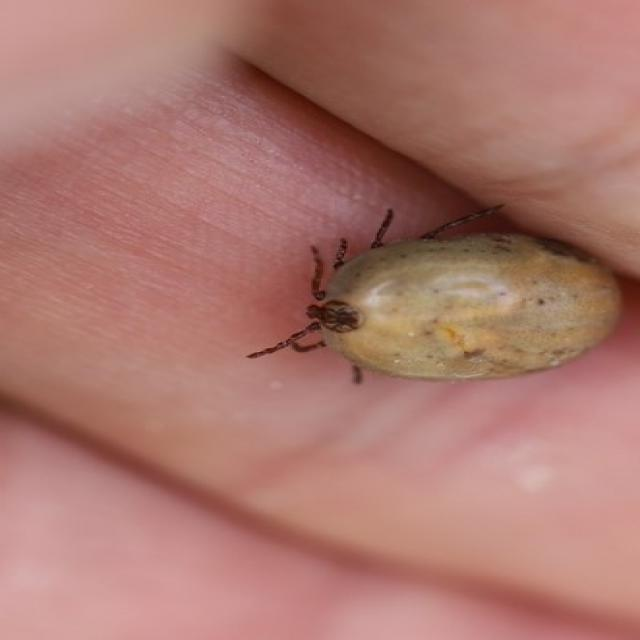Dermacentor Reticulatus-F-Fed: (246, 204, 623, 384)
